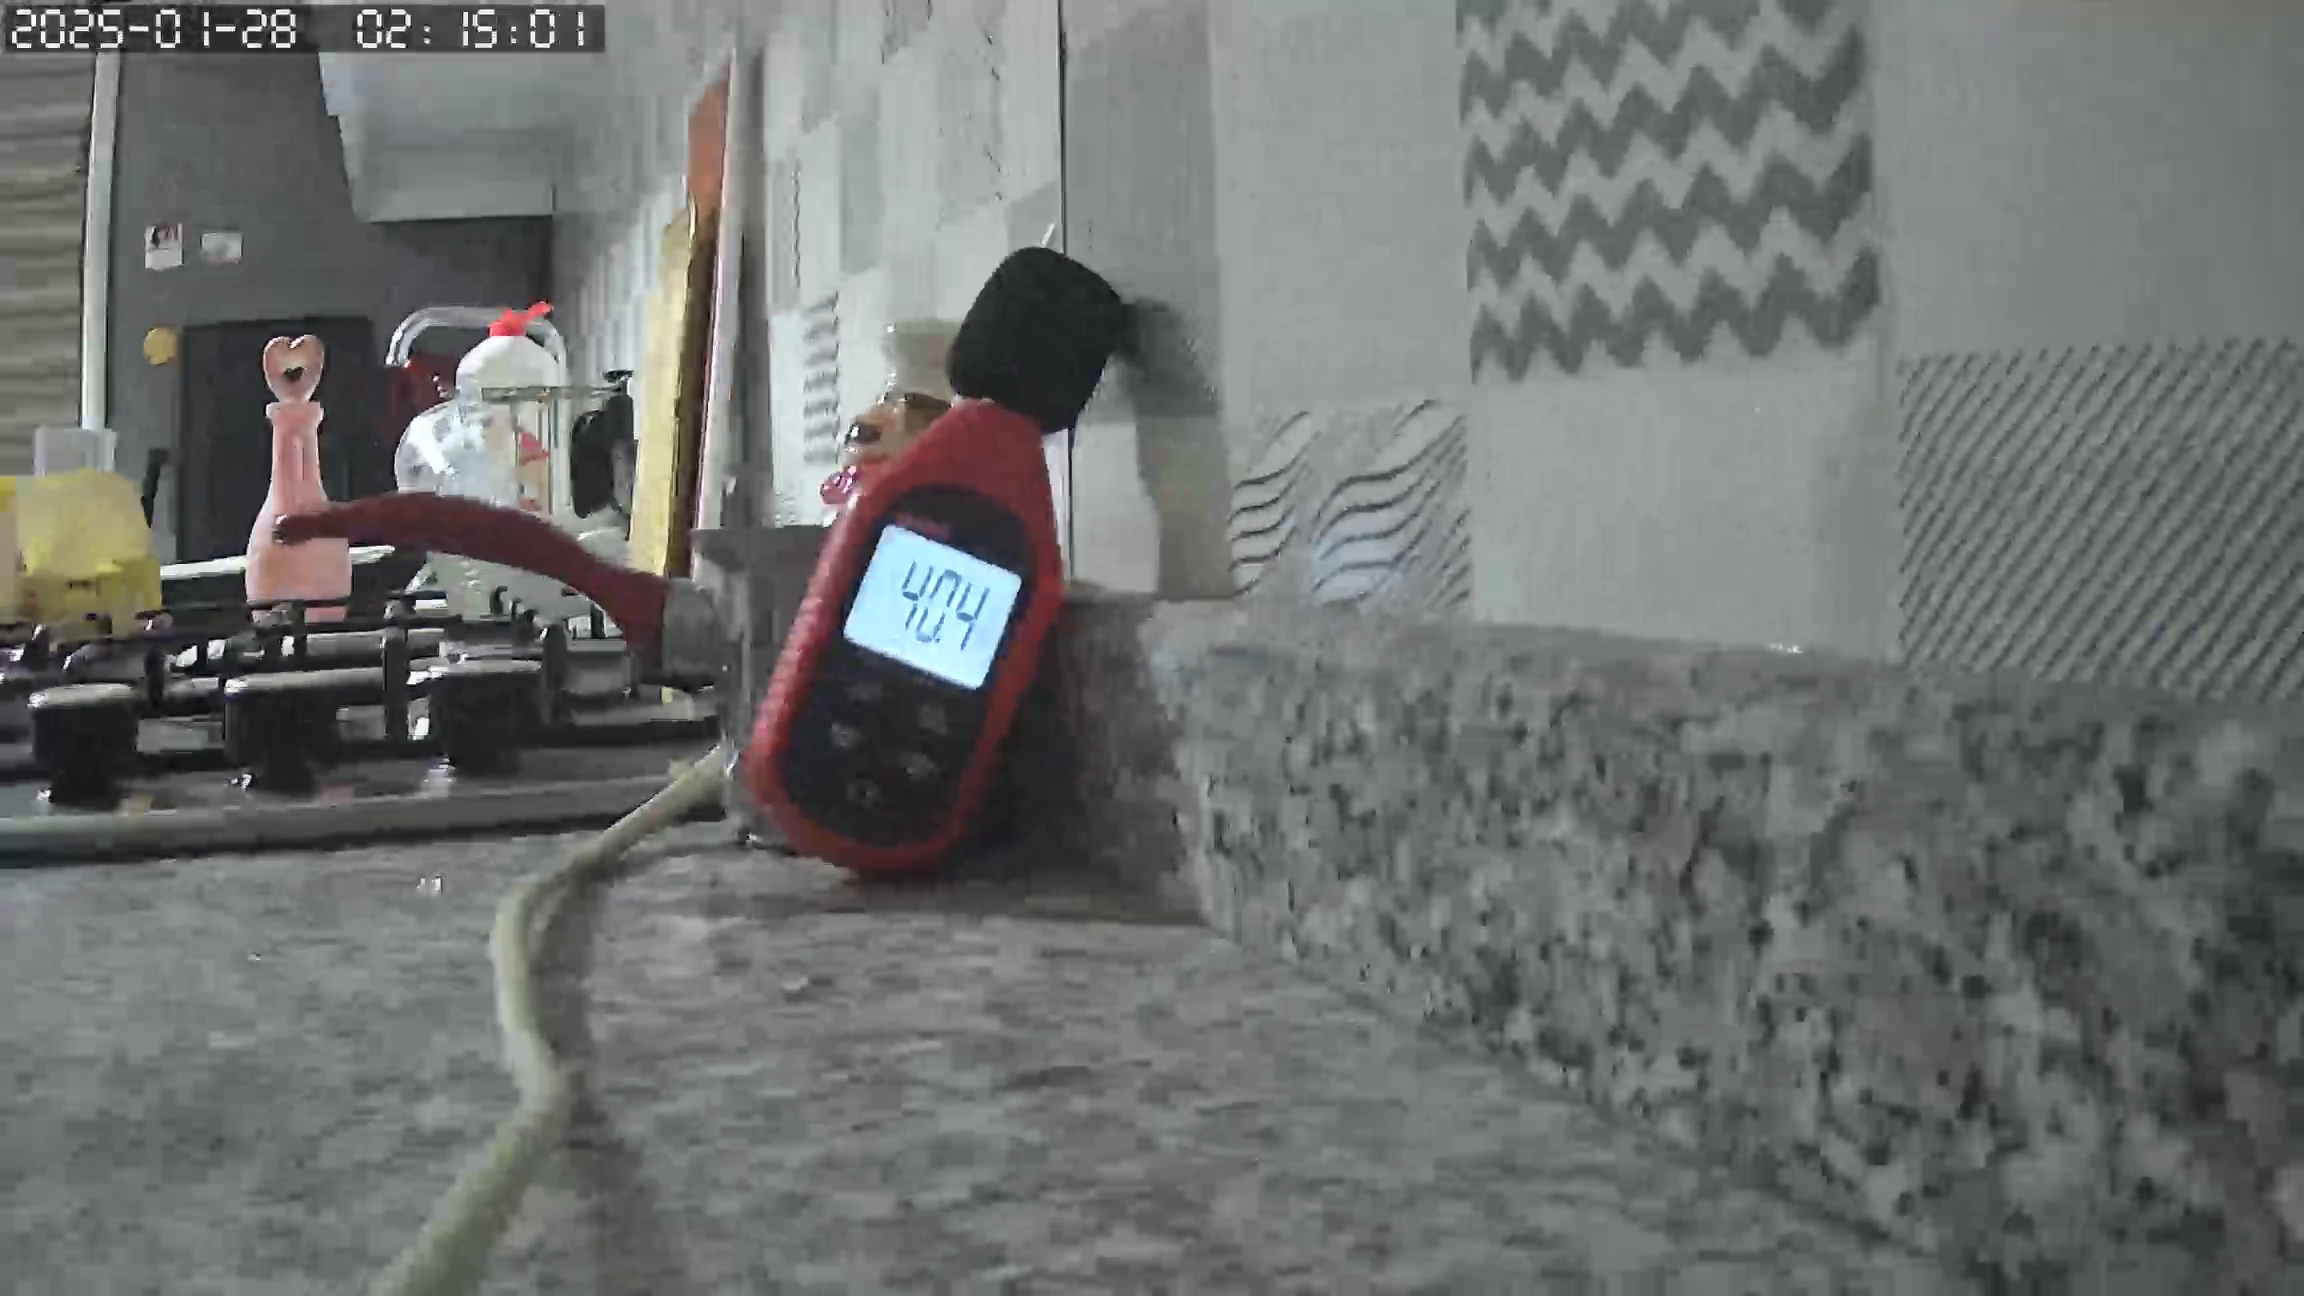screen: (839, 524, 1021, 692)
